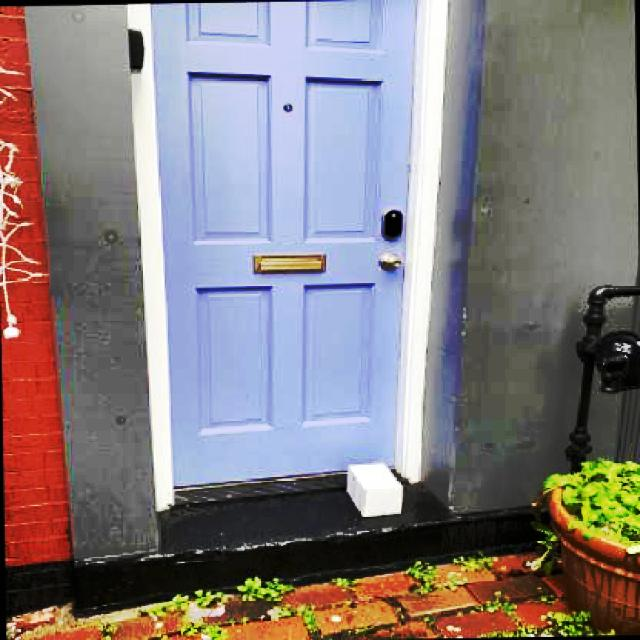Box: (338, 461, 408, 519)
